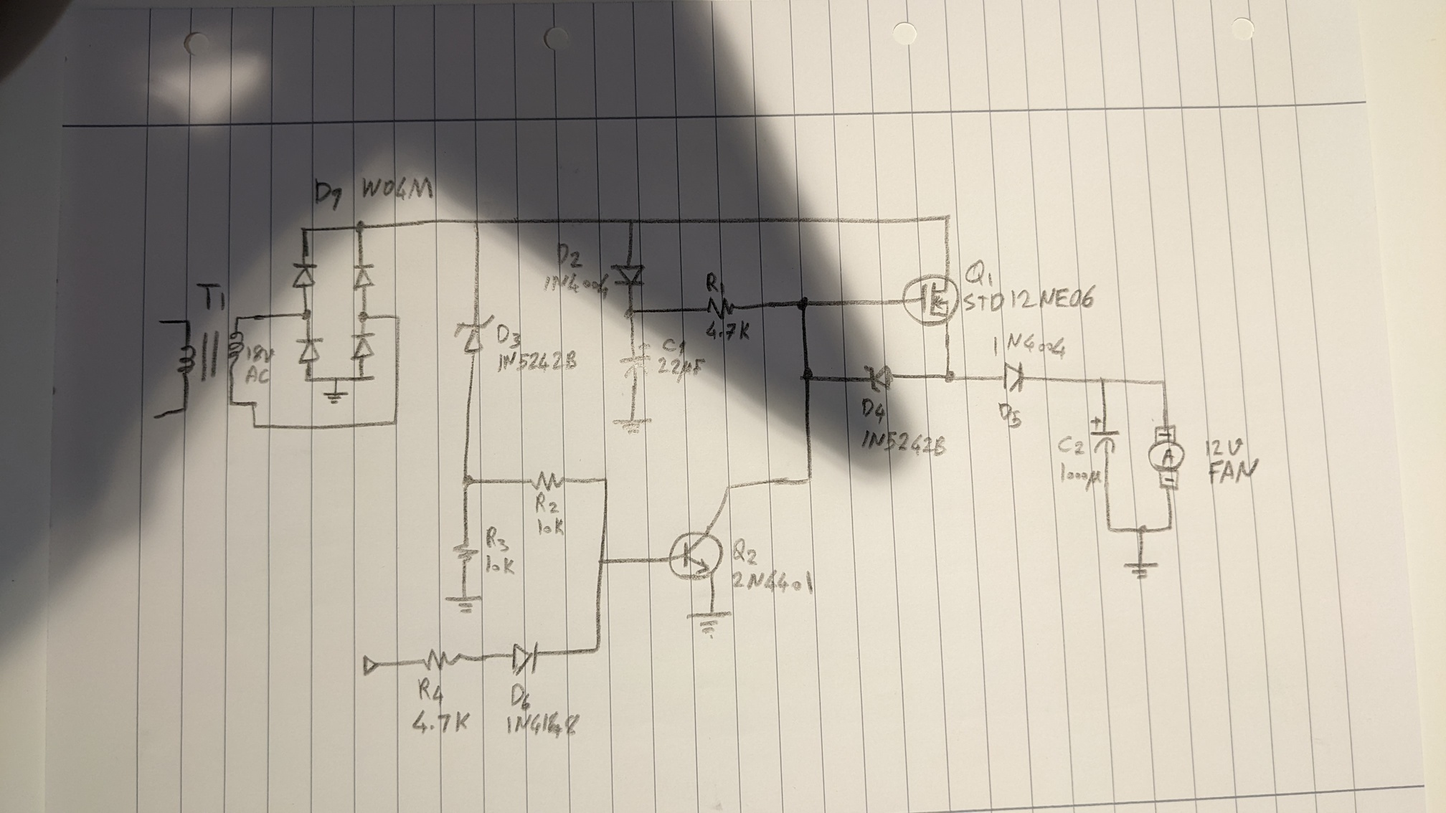capacitor.polarized: (617, 341, 653, 381), (1090, 417, 1120, 456)
diode: (510, 639, 541, 678), (290, 255, 319, 290), (610, 263, 648, 287), (1000, 359, 1026, 394), (293, 335, 323, 364), (350, 262, 377, 293), (347, 333, 375, 361)
diode.zener: (452, 313, 498, 356), (861, 363, 895, 394)
gnd: (682, 609, 734, 642), (1121, 558, 1160, 583), (445, 592, 482, 617), (611, 417, 652, 437), (321, 391, 351, 406)
inductor: (176, 342, 198, 381), (226, 331, 245, 363)
junction: (795, 295, 811, 312), (938, 210, 954, 227), (799, 368, 815, 383), (460, 473, 475, 488), (942, 369, 956, 384), (298, 307, 313, 321), (356, 309, 370, 323), (595, 554, 609, 568), (354, 219, 367, 234), (589, 642, 602, 657), (1134, 523, 1148, 536), (624, 215, 637, 229), (1156, 376, 1169, 389), (470, 215, 482, 229), (180, 315, 192, 329), (623, 307, 636, 319), (1095, 374, 1108, 386), (723, 481, 735, 494), (802, 472, 814, 485), (225, 397, 237, 409), (178, 403, 190, 415), (248, 398, 260, 409), (1164, 521, 1175, 533), (389, 417, 400, 429), (357, 372, 368, 384), (391, 312, 402, 323), (232, 312, 243, 323), (302, 375, 314, 385), (600, 474, 610, 485), (249, 421, 260, 431), (298, 224, 308, 235), (1105, 523, 1114, 533), (332, 375, 340, 384)
magnetic: (199, 330, 221, 383)
motor: (1147, 423, 1187, 493)
resistor: (420, 647, 465, 672), (530, 470, 564, 493), (705, 296, 736, 321), (453, 541, 479, 565)
terminal: (359, 652, 380, 679), (155, 316, 166, 326), (151, 412, 161, 422)
text: (963, 284, 1099, 311), (859, 428, 948, 458), (729, 568, 815, 599), (506, 707, 582, 741), (349, 173, 434, 203), (990, 328, 1069, 360), (497, 348, 580, 374), (543, 272, 610, 300), (410, 708, 473, 735), (1206, 456, 1262, 485), (656, 356, 707, 384), (192, 280, 228, 313), (1059, 463, 1102, 489), (704, 320, 751, 343), (313, 178, 344, 212), (729, 536, 761, 568), (963, 256, 995, 286), (1203, 435, 1244, 458), (415, 675, 445, 706), (555, 241, 585, 270), (483, 553, 516, 577), (496, 322, 524, 350), (483, 525, 511, 553), (860, 396, 887, 425), (997, 400, 1023, 429), (245, 343, 276, 365), (704, 270, 729, 297), (535, 517, 567, 538), (509, 682, 532, 711), (534, 491, 560, 516), (1057, 435, 1087, 456), (243, 364, 271, 385), (661, 336, 687, 356)
transformer: (174, 328, 246, 386)
transistor.bjt: (667, 527, 727, 583)
transistor.fet: (900, 273, 960, 328)
